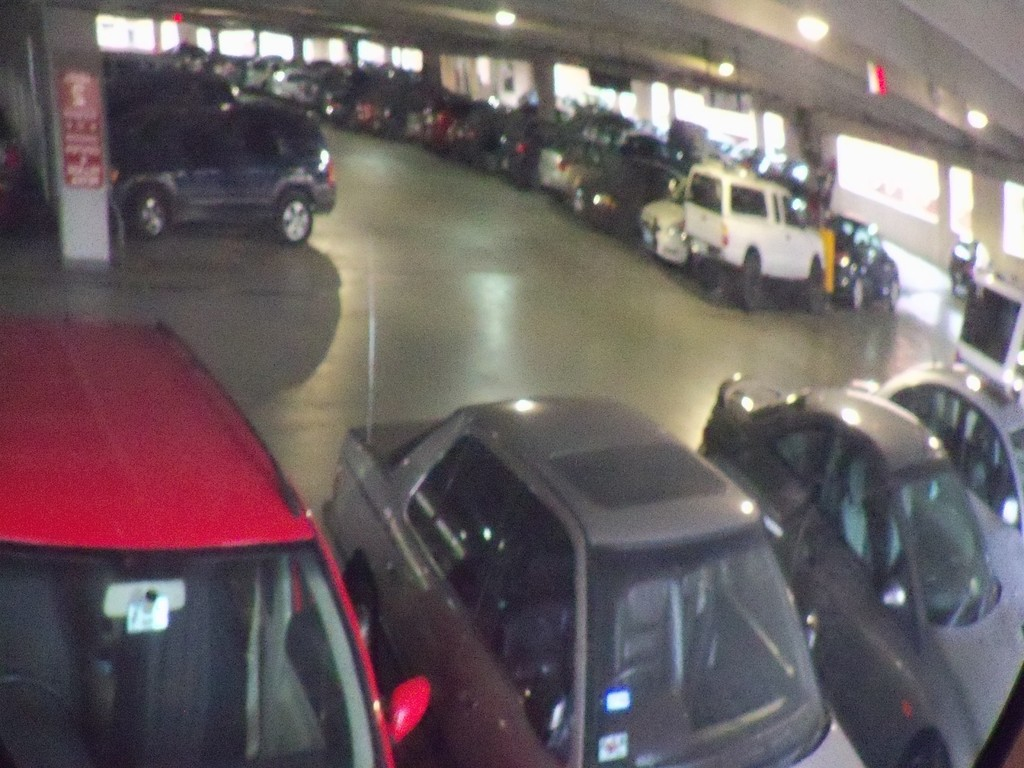Car: (0, 39, 1023, 767)
